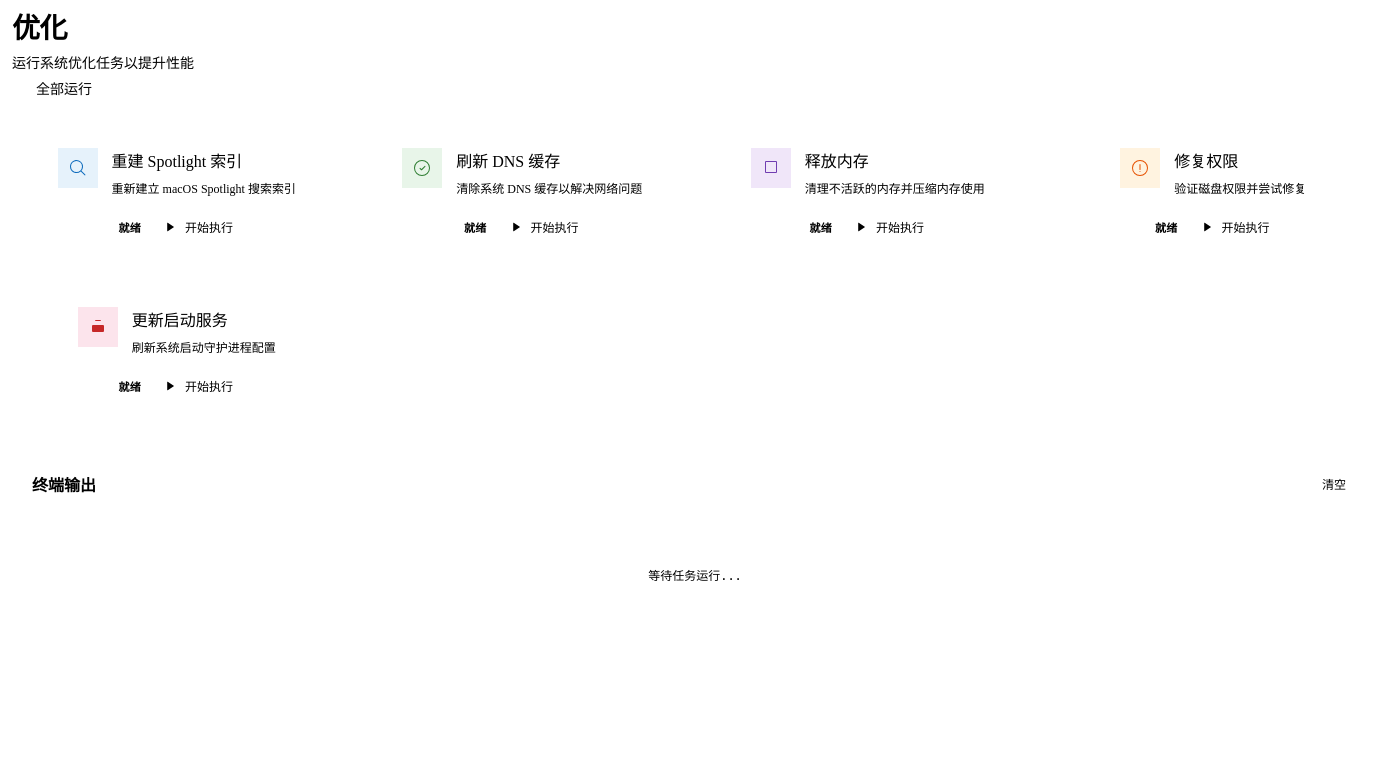
Test: OptimizeView 终端输出 › 运行任务后终端应显示输出内容
Click the button with class "btn-small" below "重新建立 macOS Spotlight 搜索索引".
click(198, 227)  # box [151,213,245,241]
Wait 500 ms
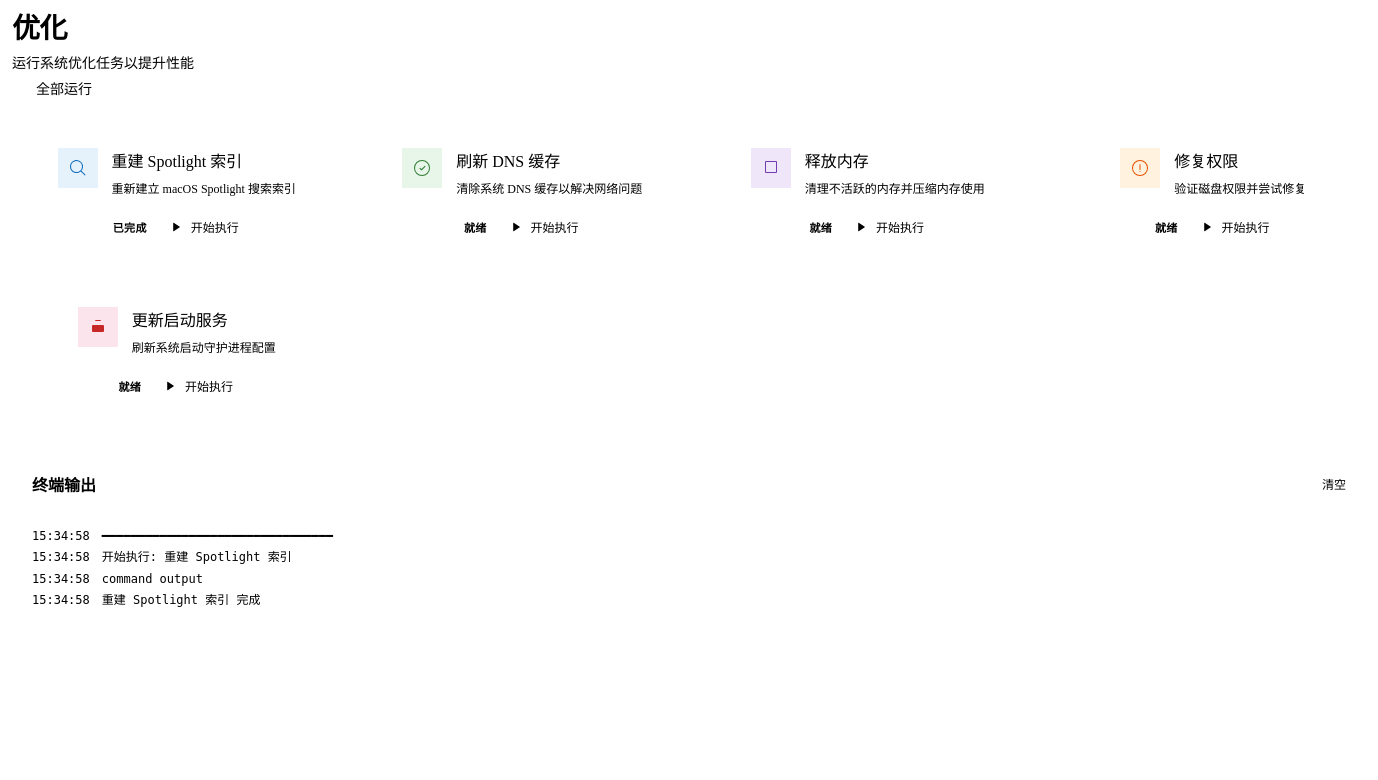
Check: the 1st element with class "terminal-line" is shown, box [32,529,333,543]
